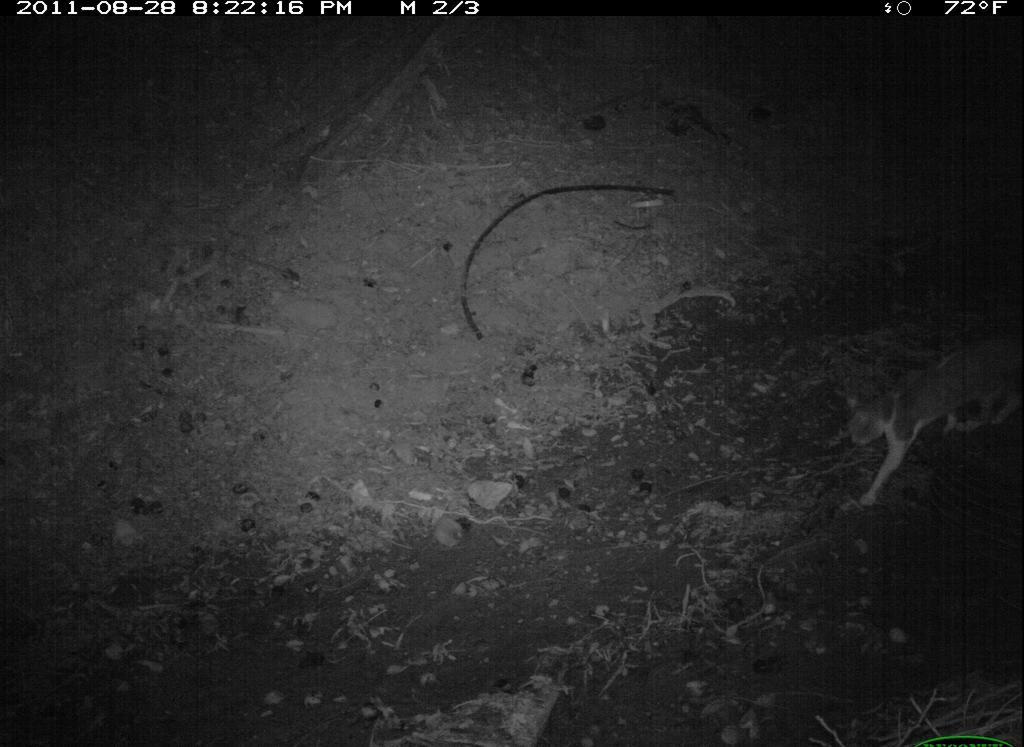cat: (834, 324, 1023, 515)
